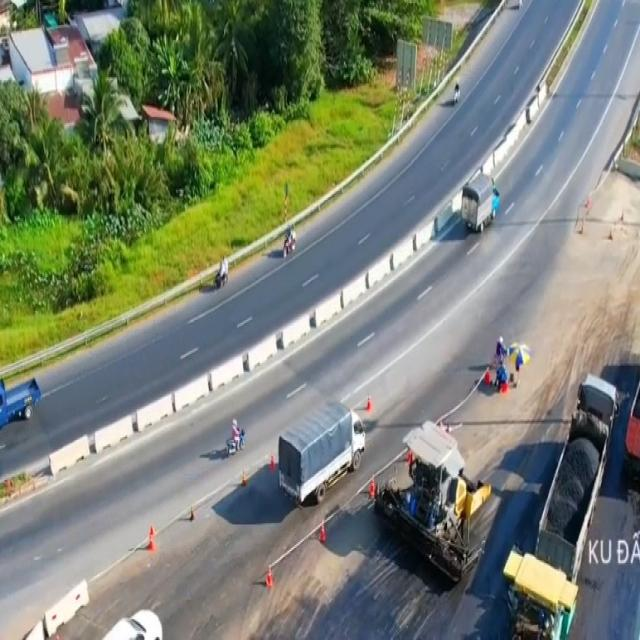motorbike: (222, 412, 246, 460), (213, 257, 232, 287), (283, 228, 297, 258)
truck: (277, 404, 366, 506), (462, 170, 499, 240), (0, 375, 43, 432)
